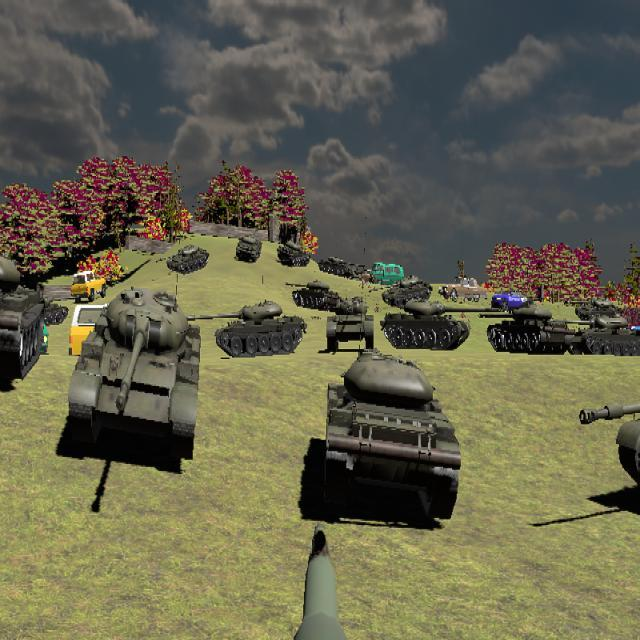Tank: (324, 349, 462, 522), (70, 288, 202, 458), (579, 364, 640, 524), (579, 366, 640, 524), (189, 299, 307, 359), (0, 245, 48, 381), (380, 299, 486, 351), (480, 304, 574, 355), (562, 314, 640, 360), (326, 295, 375, 352), (371, 277, 432, 307), (285, 279, 340, 311), (157, 244, 210, 275), (565, 298, 615, 321), (277, 240, 312, 267), (236, 229, 263, 263), (319, 255, 360, 277)
car: (438, 276, 487, 303), (437, 276, 486, 303), (72, 270, 107, 304), (491, 288, 533, 315), (369, 262, 405, 290)
